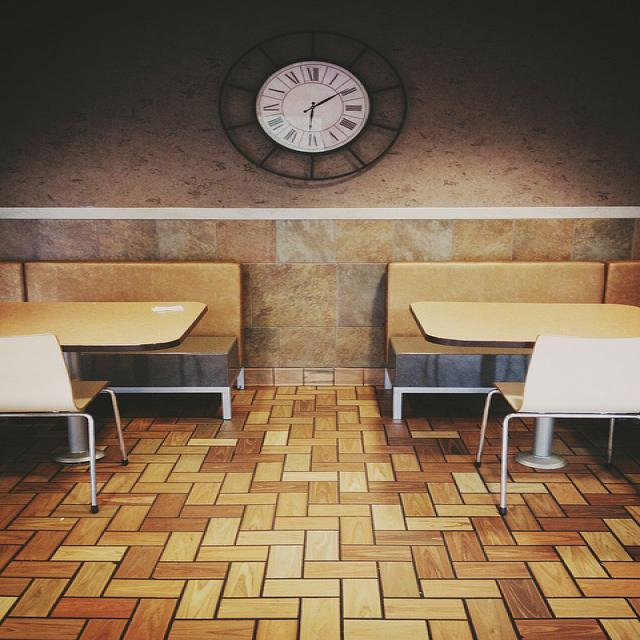chair: (387, 252, 640, 424), (26, 264, 249, 422), (473, 334, 640, 511), (1, 334, 129, 514)
dining table: (3, 303, 211, 353), (409, 303, 640, 347)
